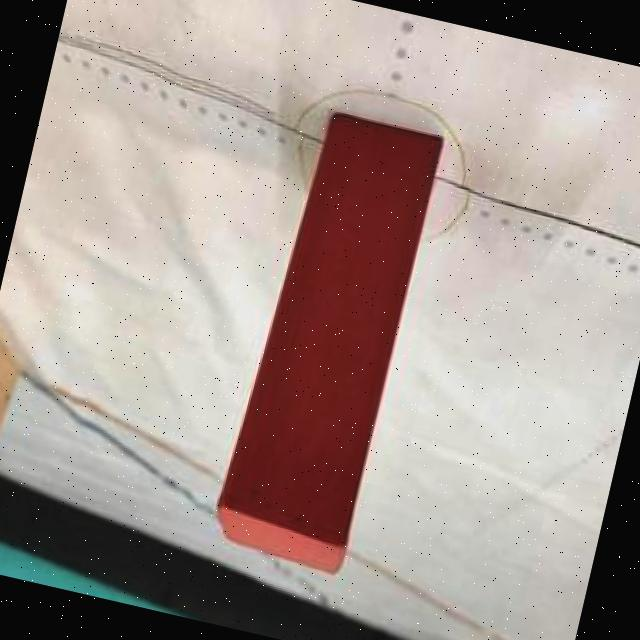redbox: (206, 103, 446, 580)
